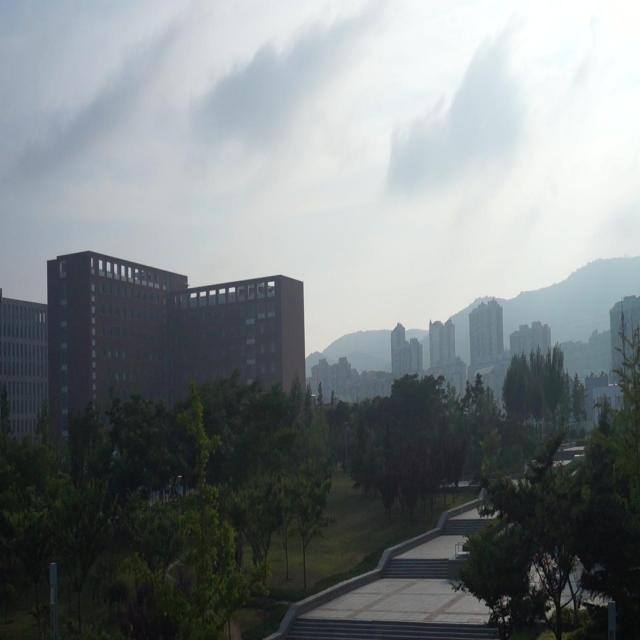UAV: (183, 281, 190, 288)
